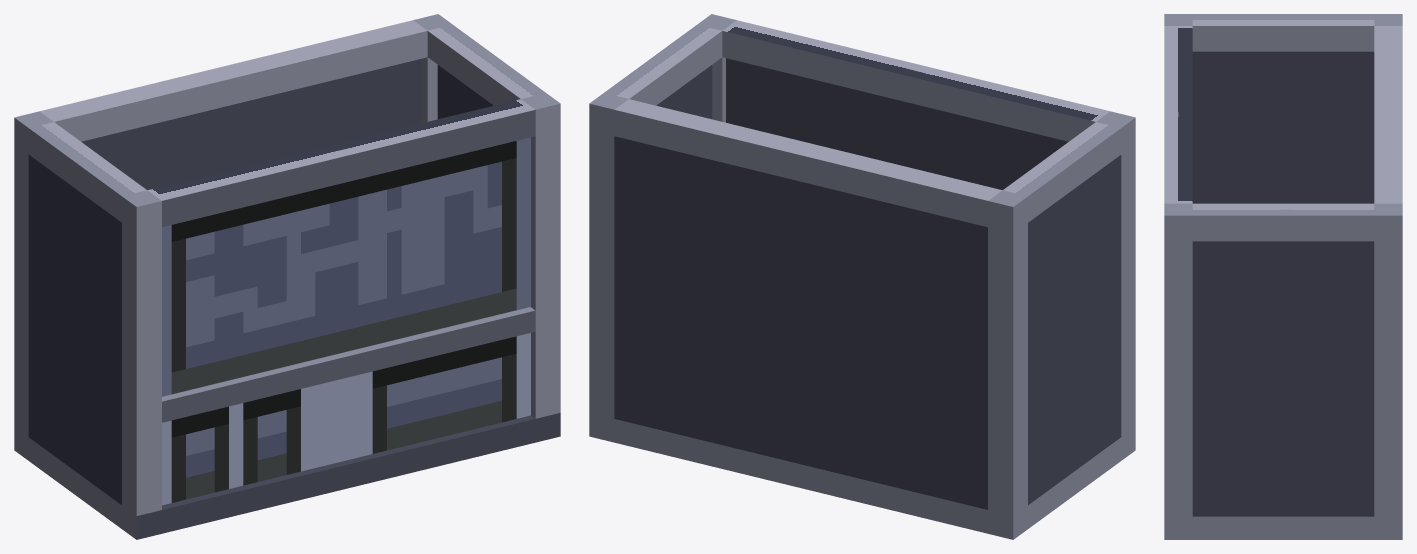
File: machine_frame.glb
The picture shows the model from 3 angles, left to right: view 1: azimuth 30°, elevation 25°; view 2: azimuth 150°, elevation 25°; view 3: azimuth 270°, elevation 25°; orthographic projection. The views are drawn at different scales.
Parts seen in each view (by area): view 1: Machine_Frame_Skeleton, Electronics_box_0; view 2: Machine_Frame_Skeleton; view 3: Machine_Frame_Skeleton.
Part boxes in pixels (x1,y1,x2,y2): Machine_Frame_Skeleton: [14, 14, 560, 539]; Electronics_box_0: [162, 137, 530, 505]; Machine_Frame_Skeleton: [589, 14, 1135, 539]; Machine_Frame_Skeleton: [1164, 14, 1402, 539].
Size of what is drawn, in the model's own units: 1.68 by 1.26 by 0.84.
Materials: 2 (2 with a texture image).
